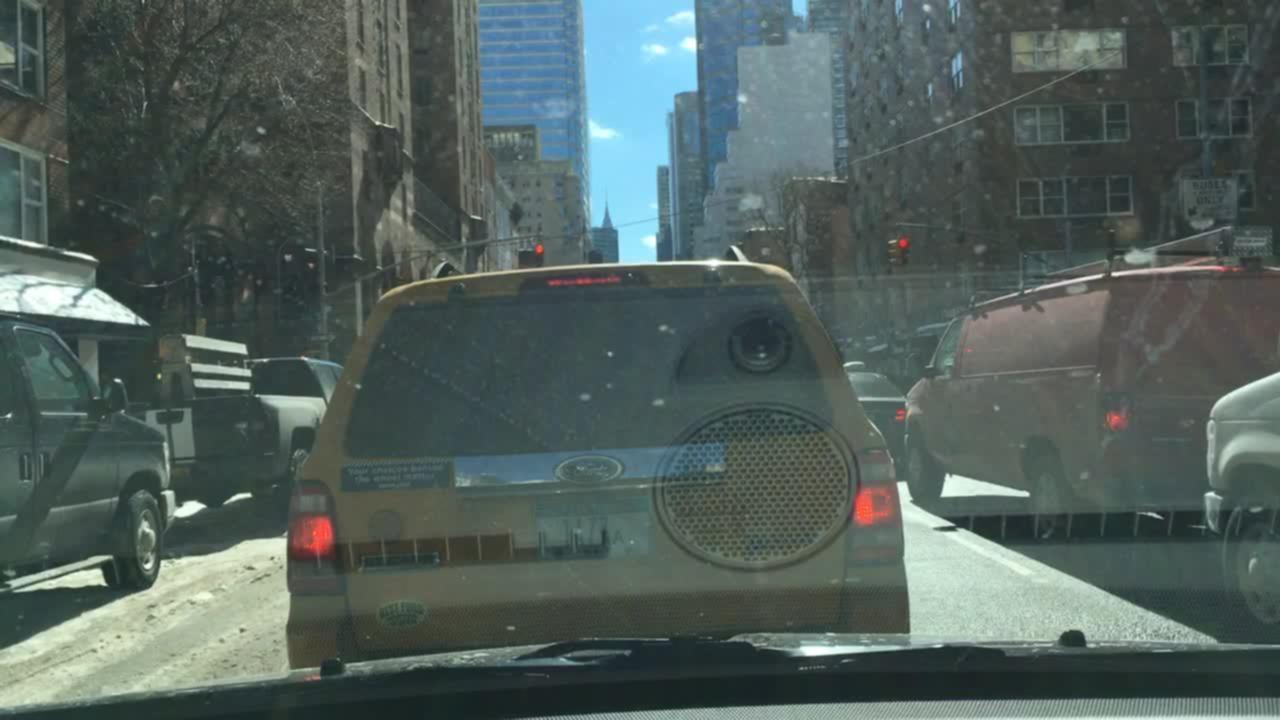ford: (547, 451, 632, 490)
